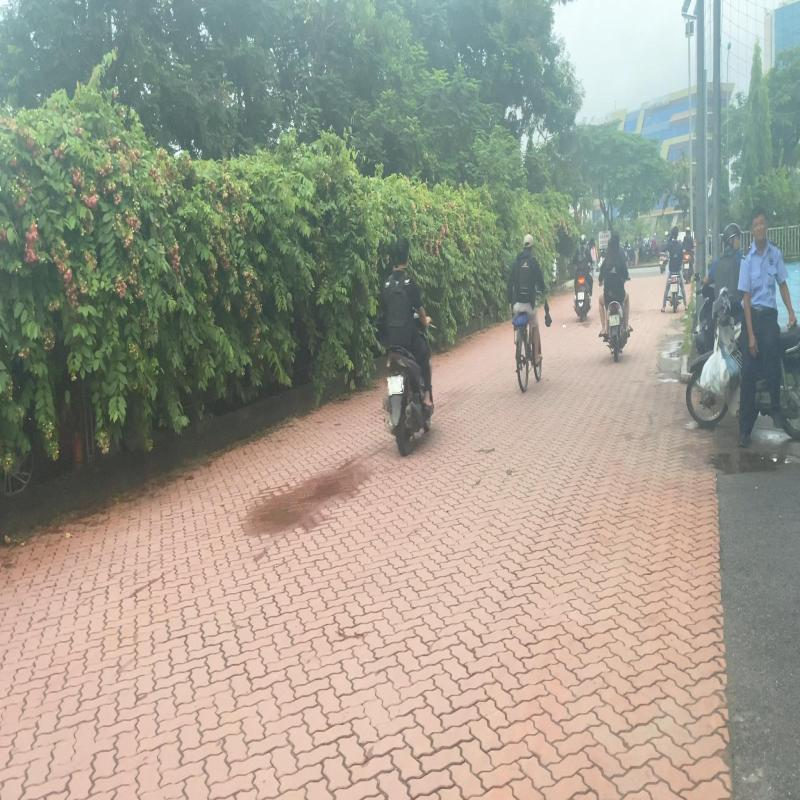licenseplate: (387, 376, 403, 394)
motorcyclist: (379, 234, 441, 458)
nohelmet: (395, 236, 409, 268)
